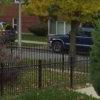Car: (46, 22, 100, 58)
